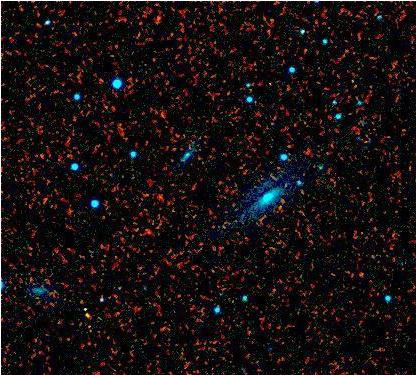star: (72, 297, 102, 327)
